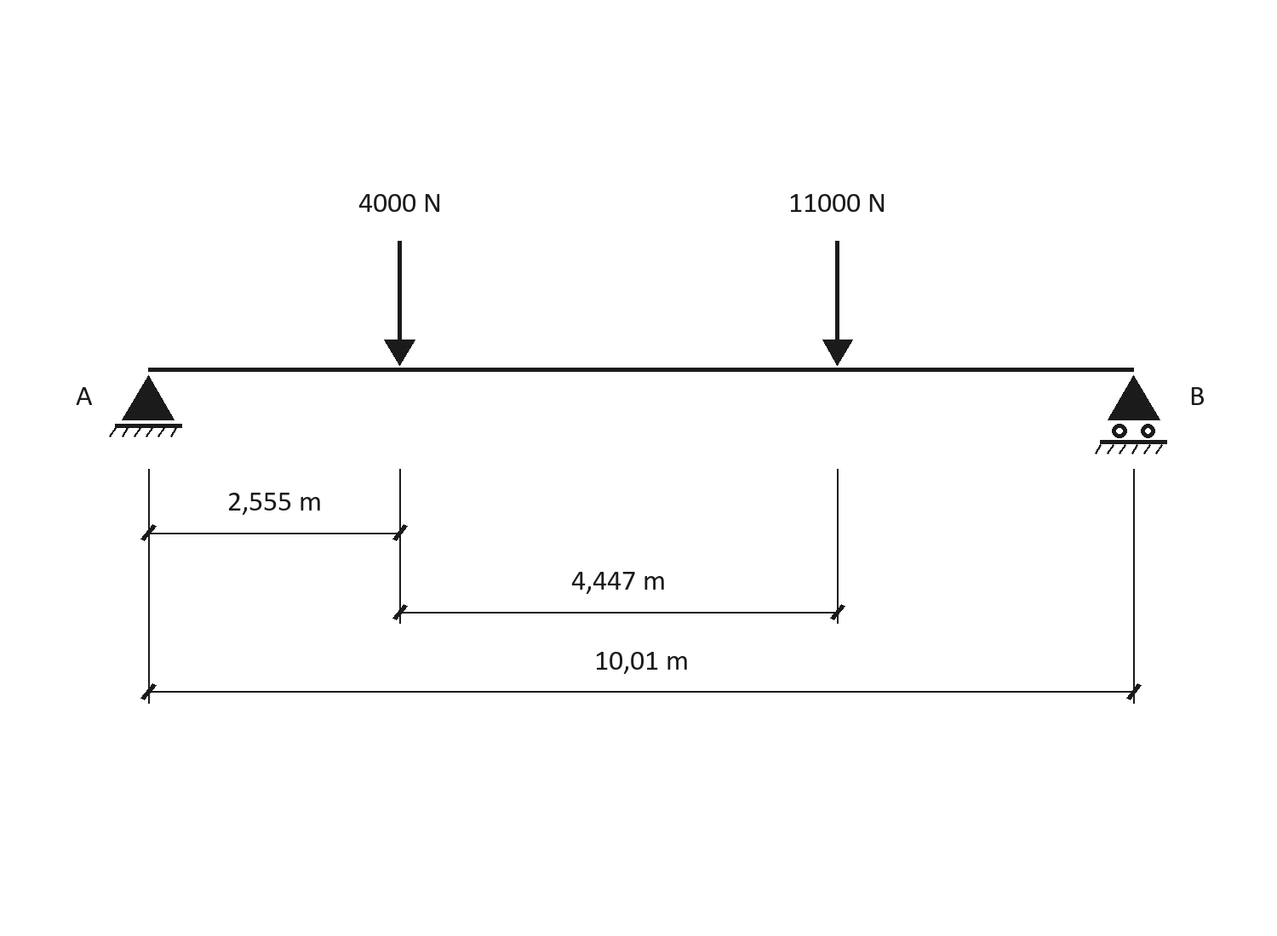pin_support: (109, 375, 182, 437)
point_load: (384, 241, 415, 366), (822, 241, 853, 366)
roller_support: (1095, 375, 1167, 454)
